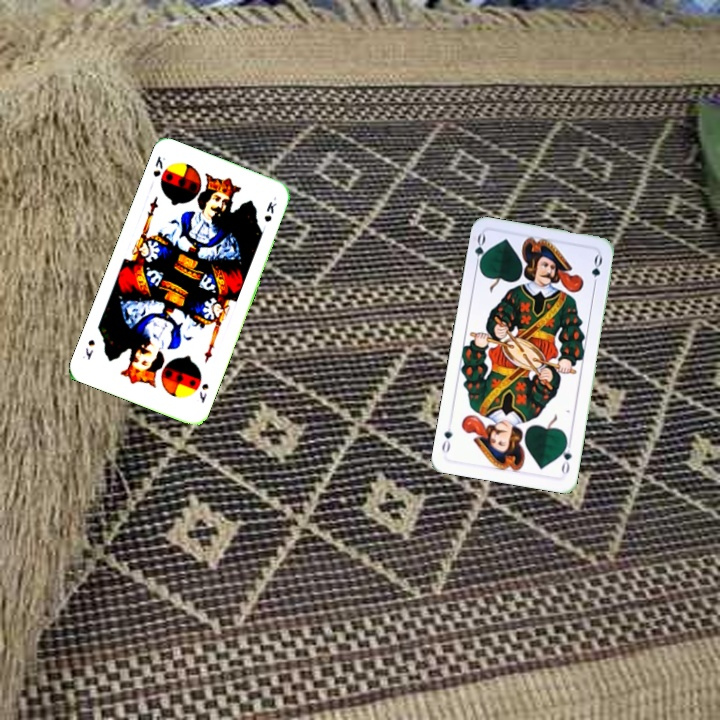GO: (471, 230, 490, 271), (557, 436, 574, 477)
SK: (149, 152, 168, 180), (195, 379, 211, 406)
